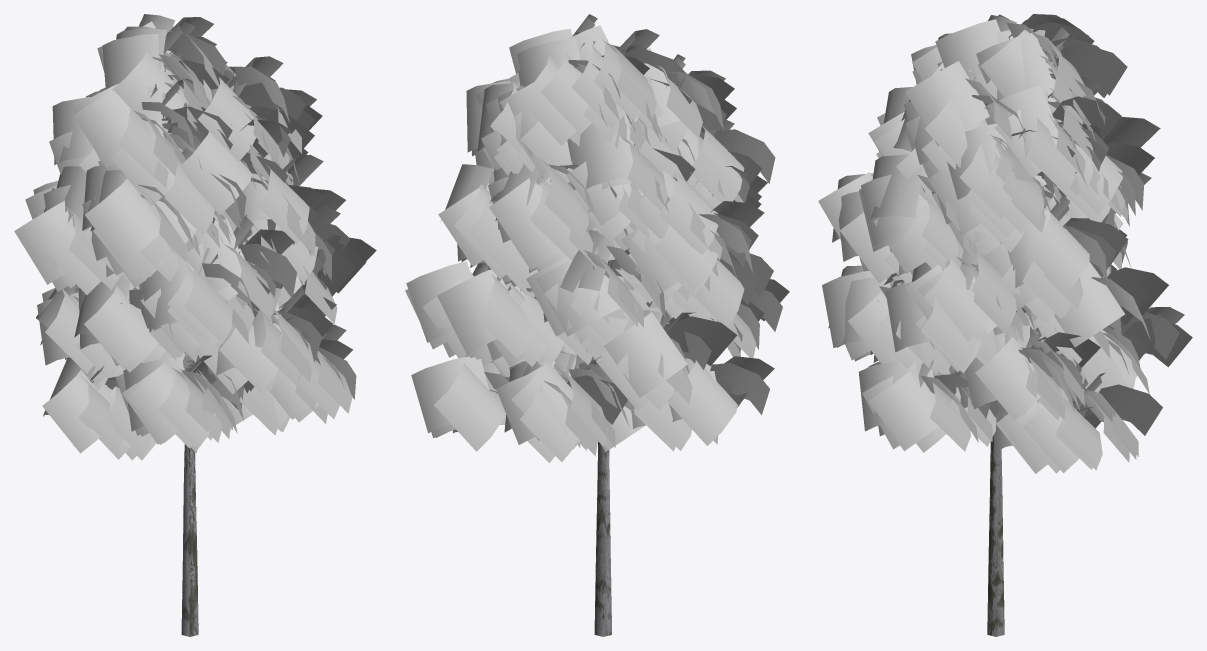
The model's file is Tree2.fbx.
3 renders of one model, left to right at view 1: azimuth 30°, elevation 25°; view 2: azimuth 150°, elevation 25°; view 3: azimuth 270°, elevation 25°, orthographic. The views are drawn at different scales.
Parts seen in each view (by area): view 1: leaves2, tree2; view 2: leaves2, tree2; view 3: leaves2, tree2.
Boxes of the visible parts, x1,y1,x2,y2 form: leaves2: (14, 14, 376, 460); tree2: (120, 51, 292, 636); leaves2: (405, 14, 789, 462); tree2: (489, 85, 722, 636); leaves2: (818, 14, 1192, 473); tree2: (878, 36, 1121, 636).
Size of the model in its own units: 523 by 940 by 524.
